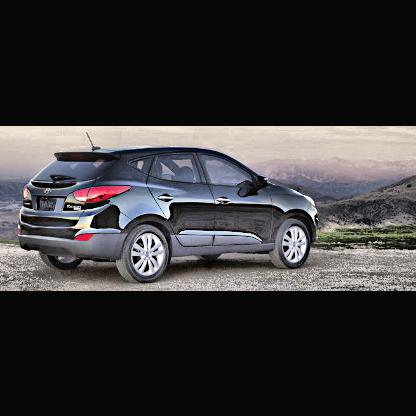Hyundai Tucson SUV 2012: (18, 131, 324, 287)
